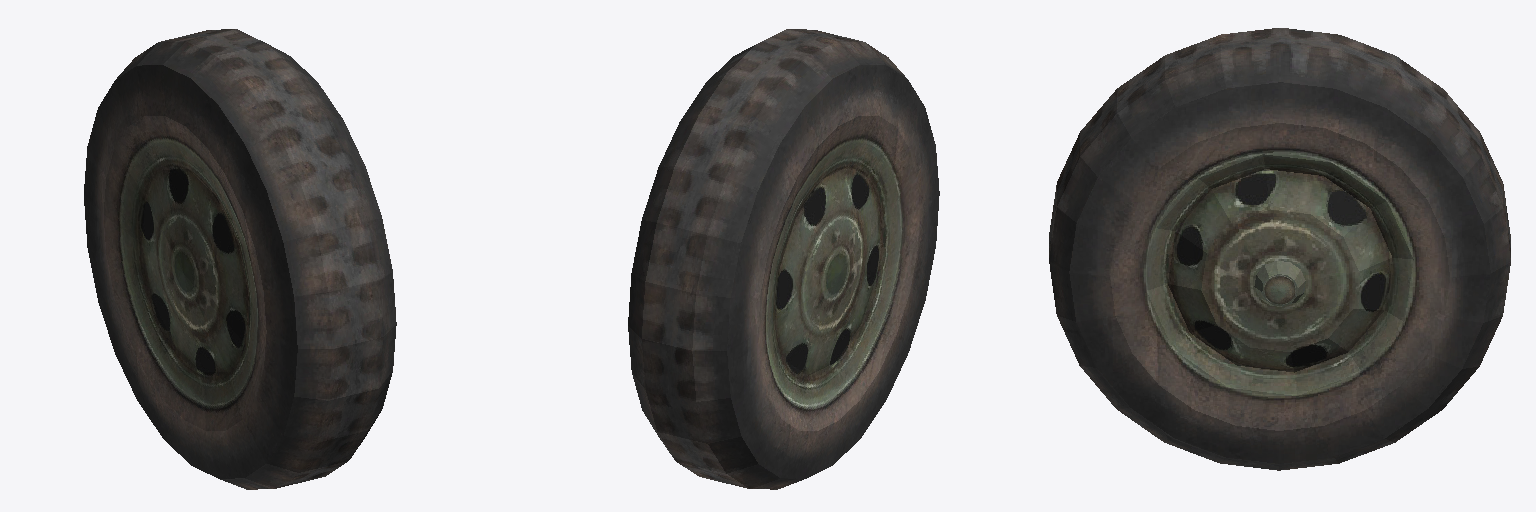
3 views of the same model, side by side, from view 1: azimuth 30°, elevation 25°; view 2: azimuth 150°, elevation 25°; view 3: azimuth 270°, elevation 25° (orthographic).
Parts seen in each view (by area): view 1: armytruck.003; view 2: armytruck.003; view 3: armytruck.003.
Part boxes in pixels (bbox=[...]): armytruck.003: bbox=[84, 29, 396, 489]; armytruck.003: bbox=[628, 29, 939, 489]; armytruck.003: bbox=[1049, 28, 1510, 470].
Bounding box in the file's own units: 0.3351 × 0.9261 × 0.9267.
Materials: 1 (1 with a texture image).